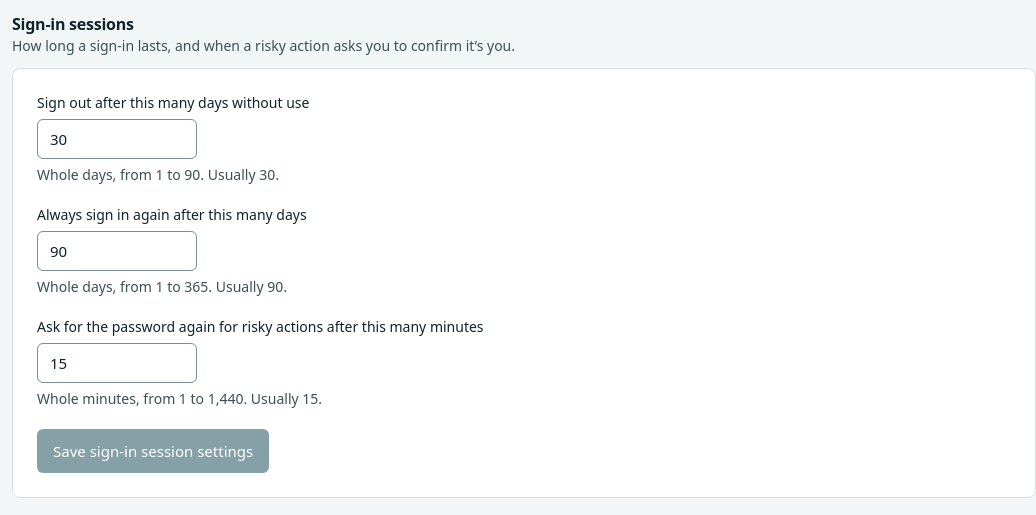
Test: sign-in sessions card › stops a number that is not whole before it reaches the gateway
Replace the text in the number field labelled "Sign out after this many days without use" with "1.5". click: (117, 139)
box: [37,119,197,159]
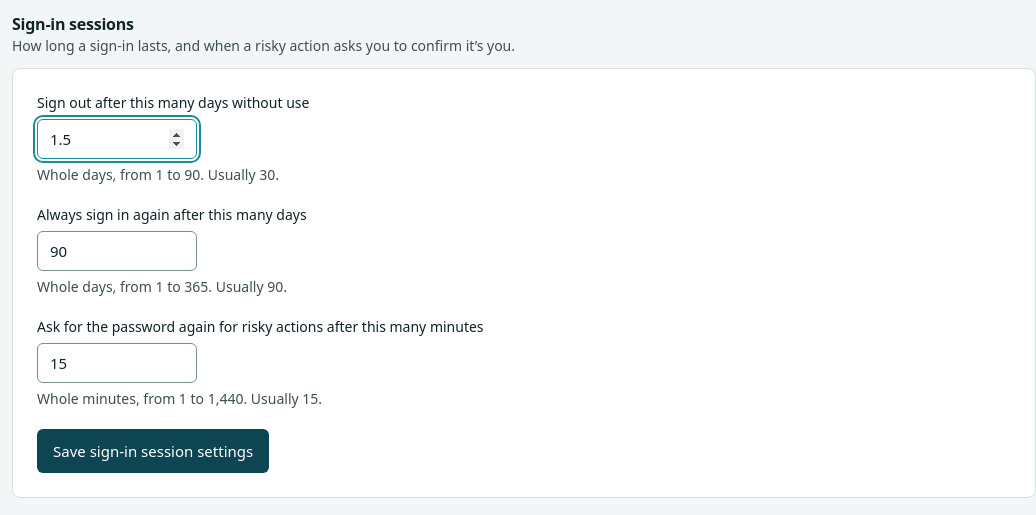
Click the button "Save sign-in session settings". click: (153, 451)
box: [37,429,269,473]
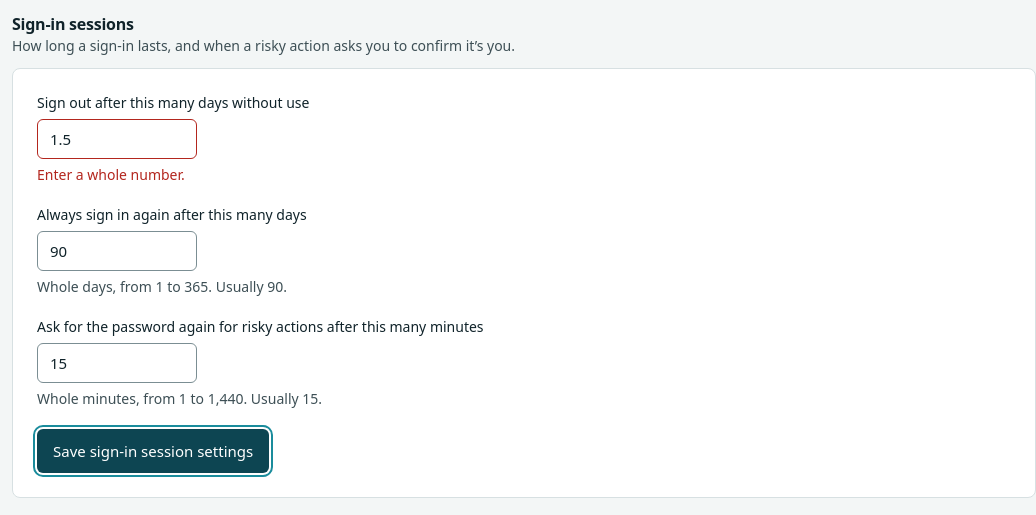
Now the text "Enter a whole number." is shown, box [37,165,185,184]
